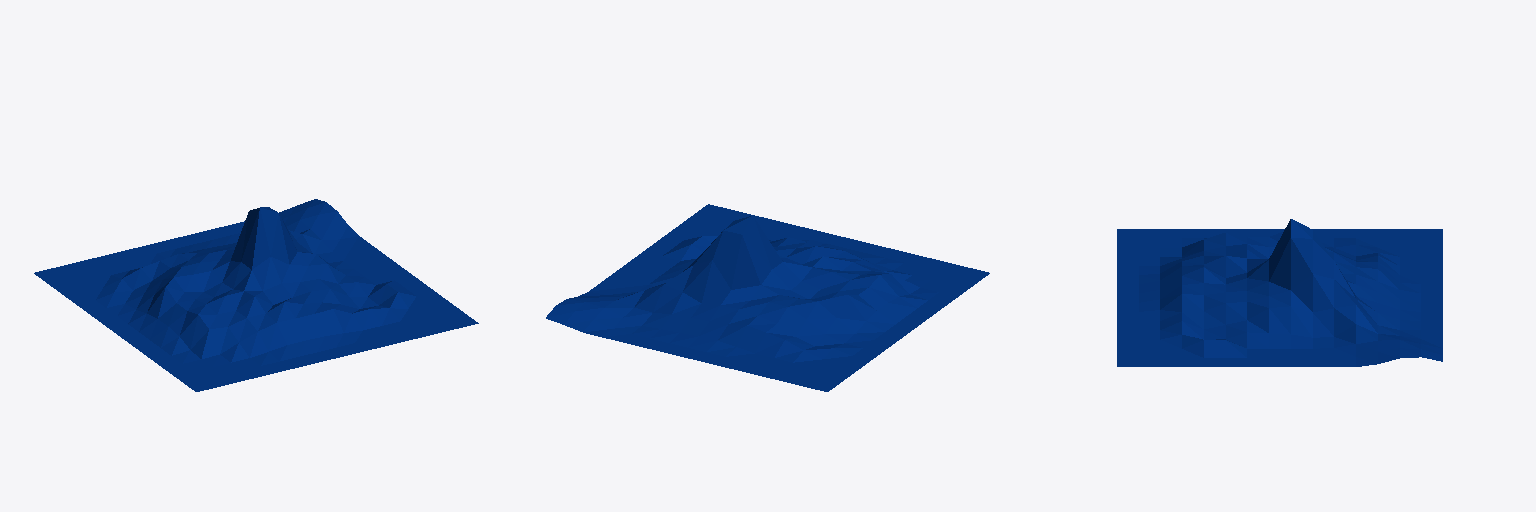
The model's file is water.obj.
3 renders of one model, left to right at view 1: azimuth 30°, elevation 25°; view 2: azimuth 150°, elevation 25°; view 3: azimuth 270°, elevation 25°, orthographic.
Visible parts, largest first — view 1: Plane001; view 2: Plane001; view 3: Plane001.
Part boxes in pixels (bbox=[...]): Plane001: bbox=[34, 199, 478, 391]; Plane001: bbox=[546, 204, 989, 391]; Plane001: bbox=[1117, 219, 1442, 366].
Bounding box in the file's own units: 300 × 85.67 × 300.